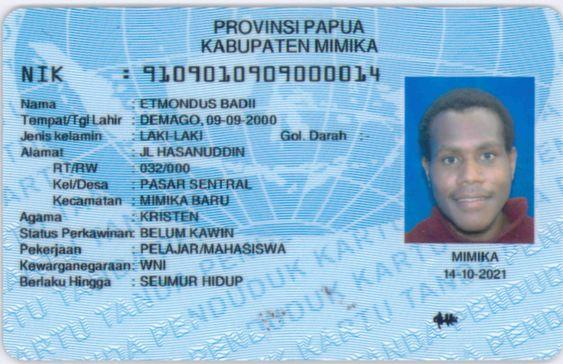ID-card: (3, 9, 560, 357)
